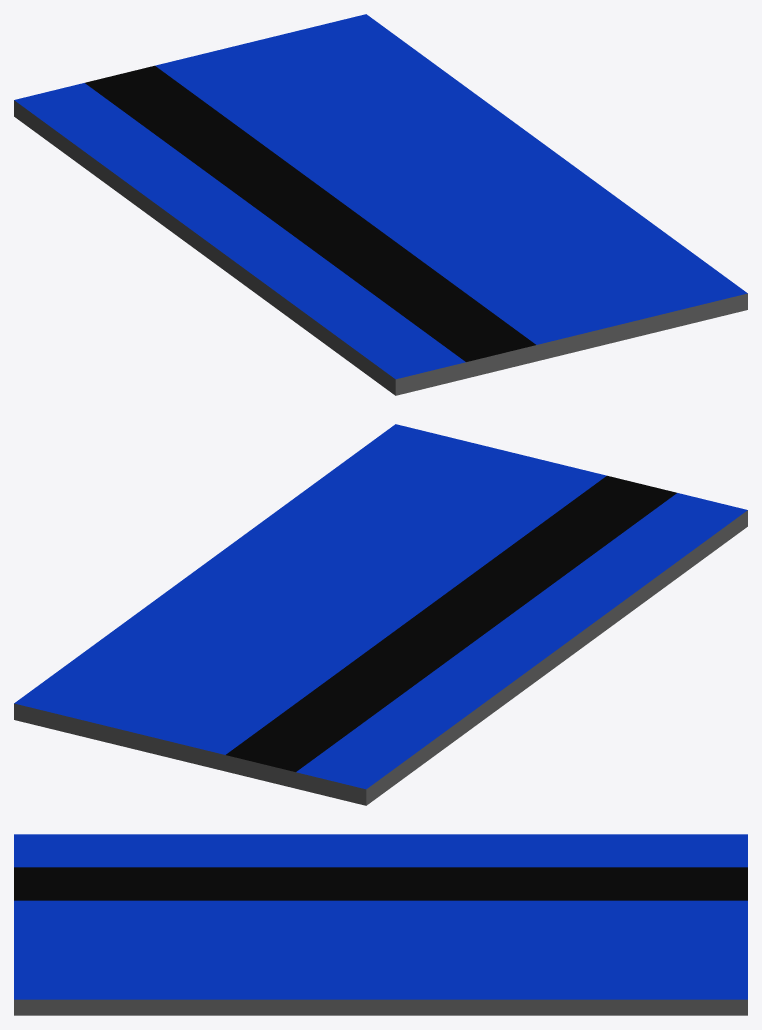
File: keycard.fbx
3 renders of one model, top to bottom at view 1: azimuth 30°, elevation 25°; view 2: azimuth 150°, elevation 25°; view 3: azimuth 270°, elevation 25°, orthographic. The views are drawn at different scales.
Visible parts, largest first — view 1: pCube1; view 2: pCube1; view 3: pCube1.
Boxes of the visible parts, <box> form: pCube1: <box>14,14,747,395</box>; pCube1: <box>14,424,747,805</box>; pCube1: <box>14,834,747,1015</box>.
Bounding box in the file's own units: 2.2 × 0.0983 × 4.12.
